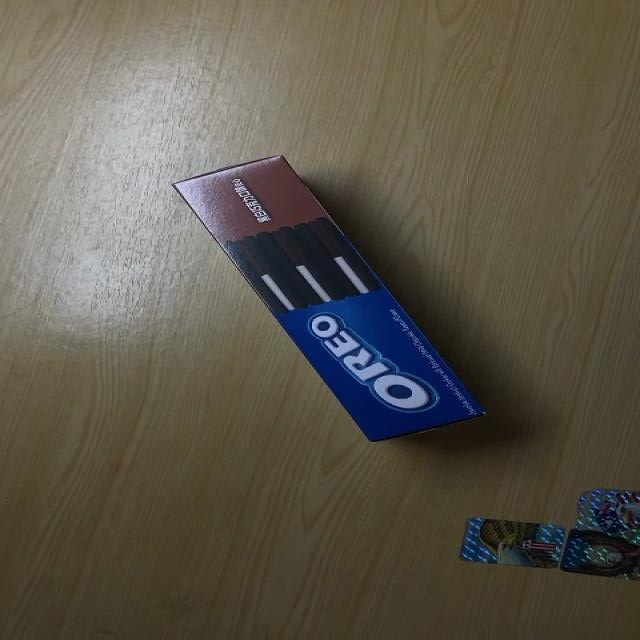Oreo: (172, 153, 493, 443)
